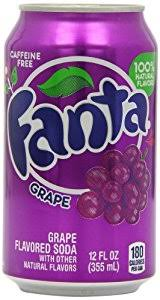can: (2, 2, 158, 298)
